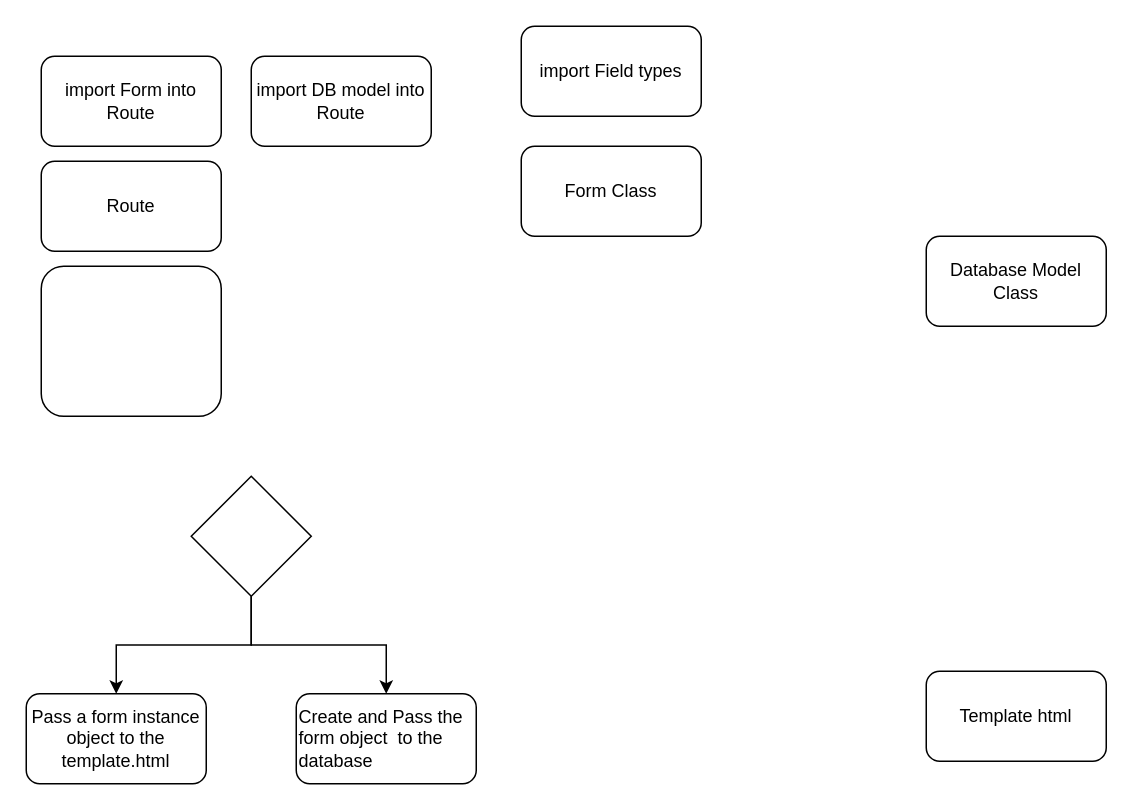
This 1133x810 diagram has some shape labels left out. Here are the shapes that lost their labels. From the top down, the centre of each, then its label:
[130,340]: Create an object using the form class and pulling off the data in the route
[250,535]: GET or POST
